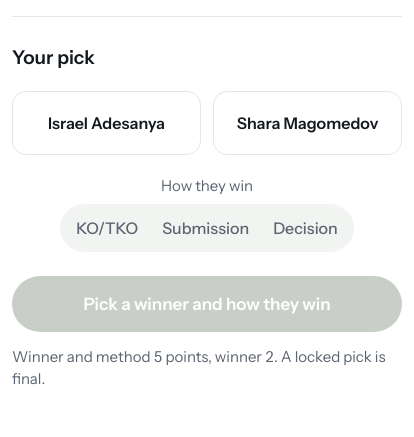
Test: open and not picked › submits once, shows Locking in… while pending, and shows the model's agreement
The width and height of the screenshot is (414, 437).
Expected: the element named "Pick a winner" is shown, x1=12 y1=91 x2=402 y2=155
Click the button "Shara Magomedov" at (308, 123), box x1=213 y1=91 x2=402 y2=155
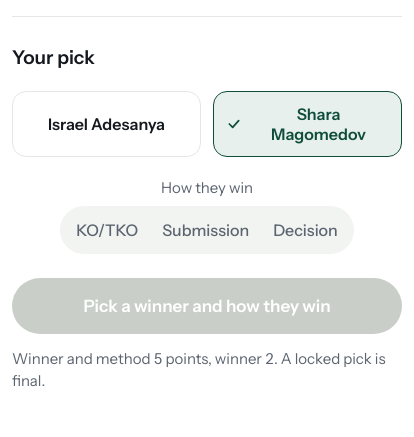
Click the button "Decision" at (305, 230), box x1=261 y1=210 x2=350 y2=250
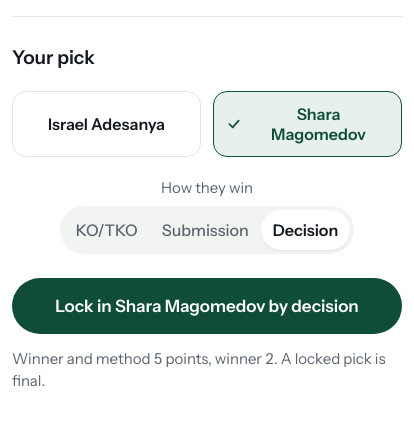
Click the button "Lock in Shara Magomedov by decision" at (207, 306), box x1=12 y1=278 x2=402 y2=334
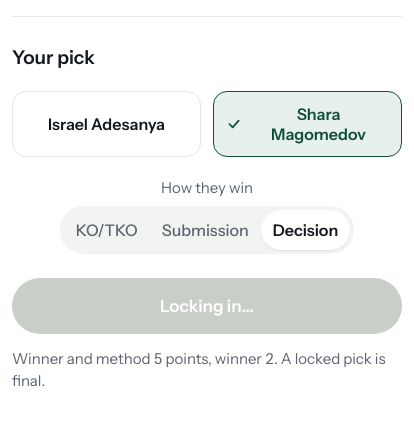
Result: the button "Locking in…" is disabled
Click the button "Locking in…" at (207, 306), box x1=12 y1=278 x2=402 y2=334
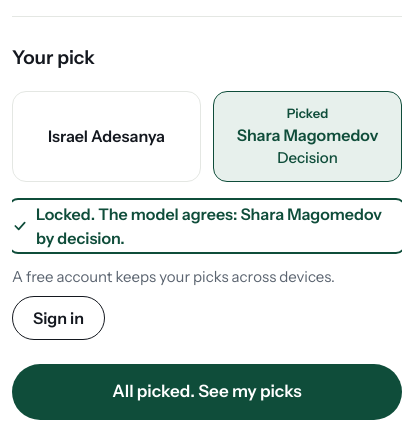
Expected: the button "Lock in" is not shown
Result: the message reads "Locked. The model agrees: Shara Magomedov by decision." at x1=36 y1=204 x2=382 y2=248
